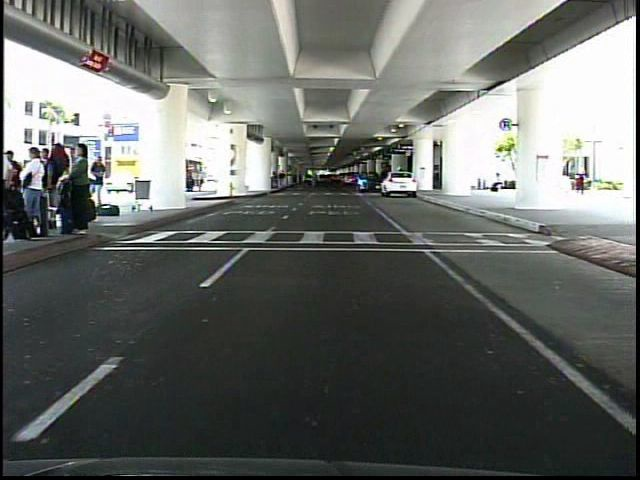person: (568, 161, 591, 201), (488, 167, 505, 199)
